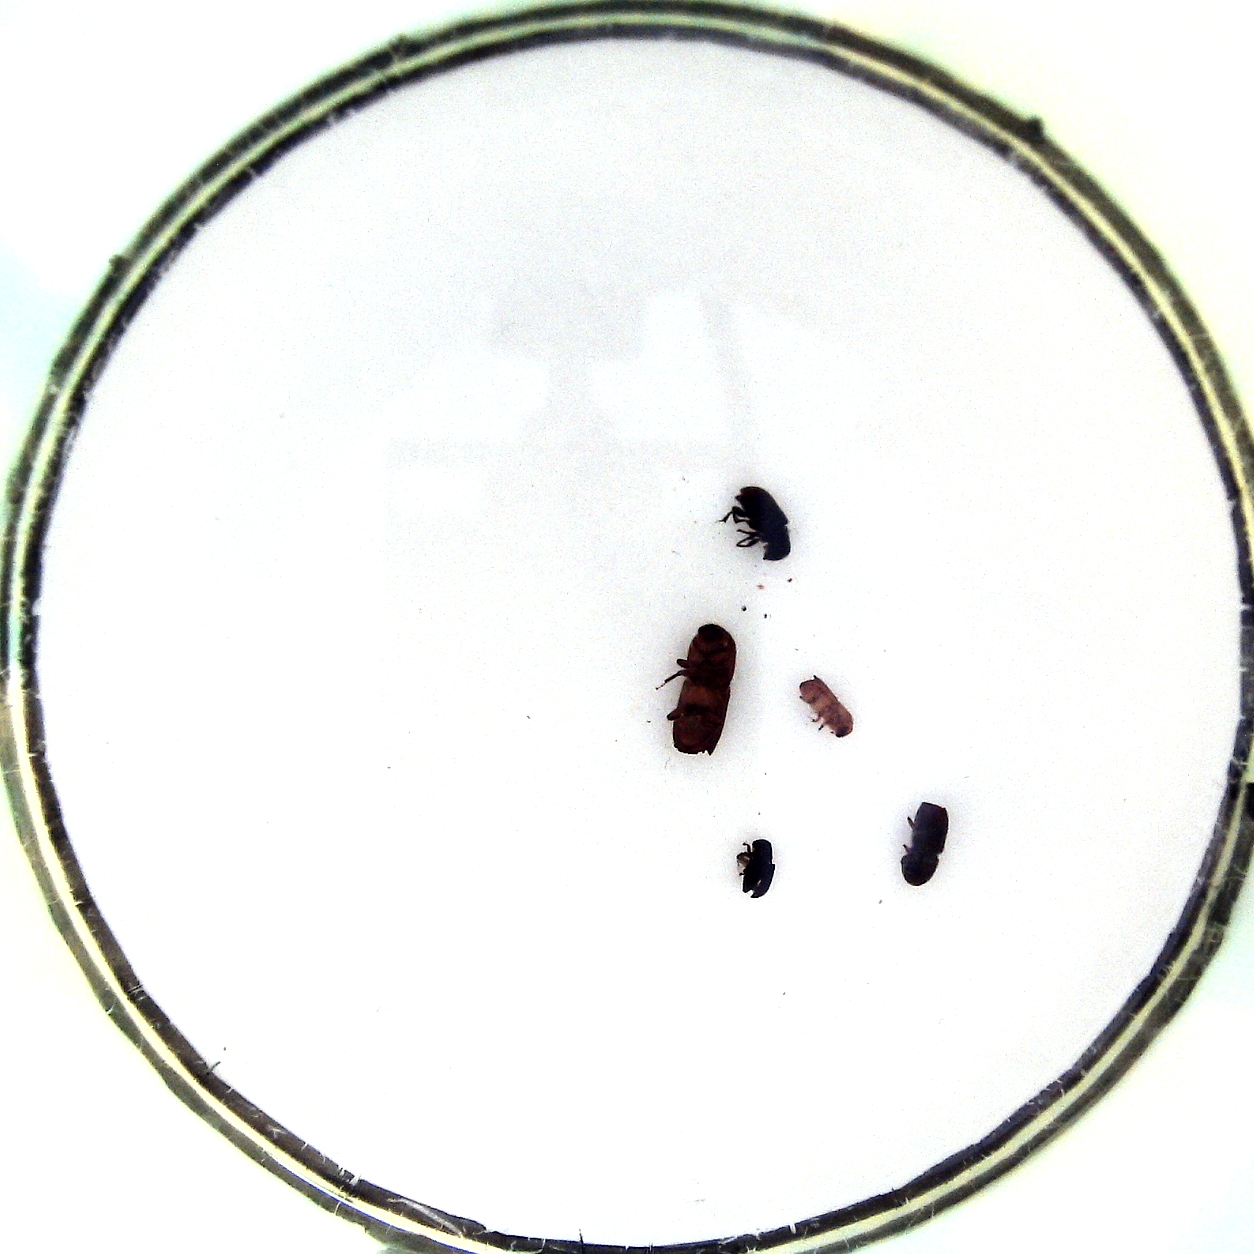Boerner: (659, 620, 741, 761)
Linnaeus: (901, 798, 953, 889)
acuminatus: (795, 672, 851, 746)
armandi: (721, 483, 800, 562)
coleoptera: (734, 834, 782, 898)
